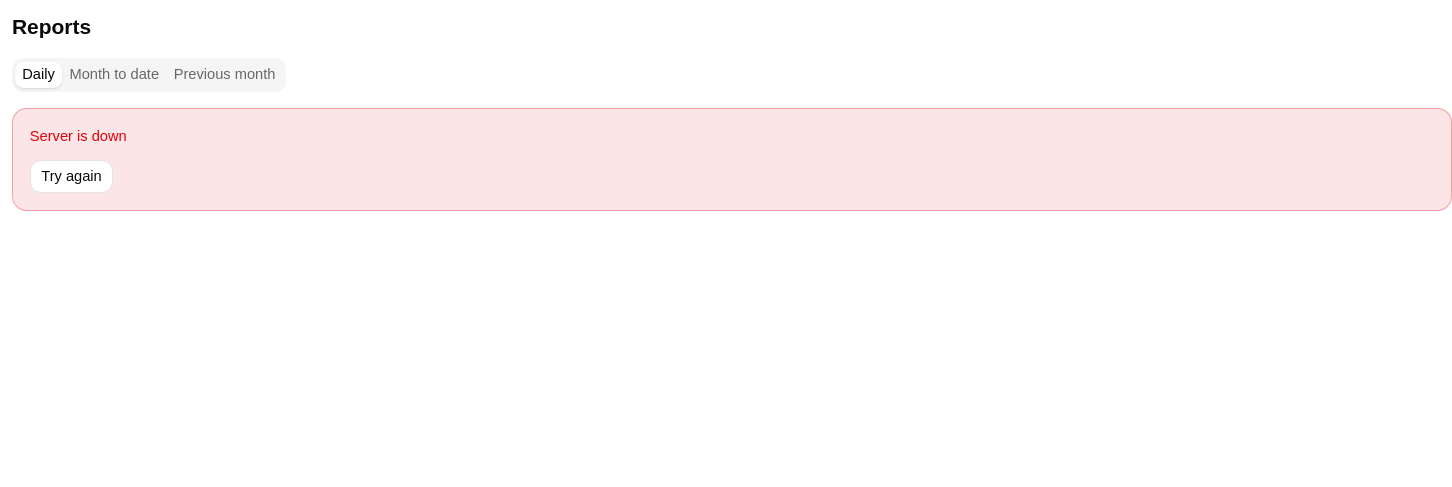
Scenario: ReportsSection › shows an error with a retry button when the report fails to load
This screenshot has width=1452, height=487.
Expected: the text "Server is down" is shown, [30,126,127,147]
Click the button "Try again".
click(72, 176)  # box [30,160,113,193]
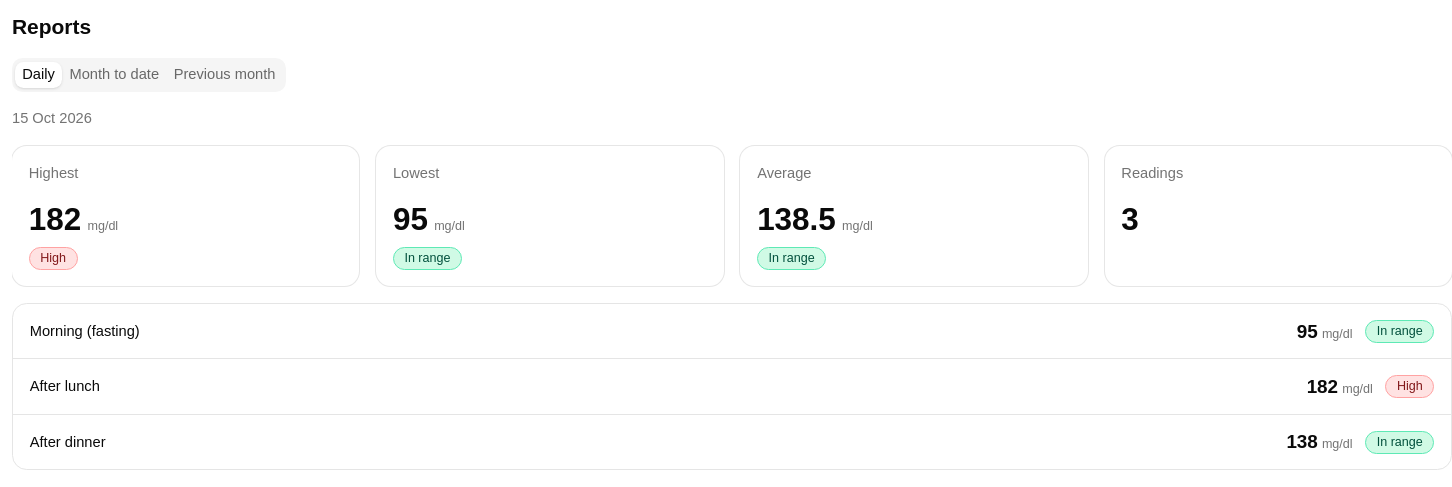
Expected: the text "15 Oct 2026" is shown, [12,110,92,126]
